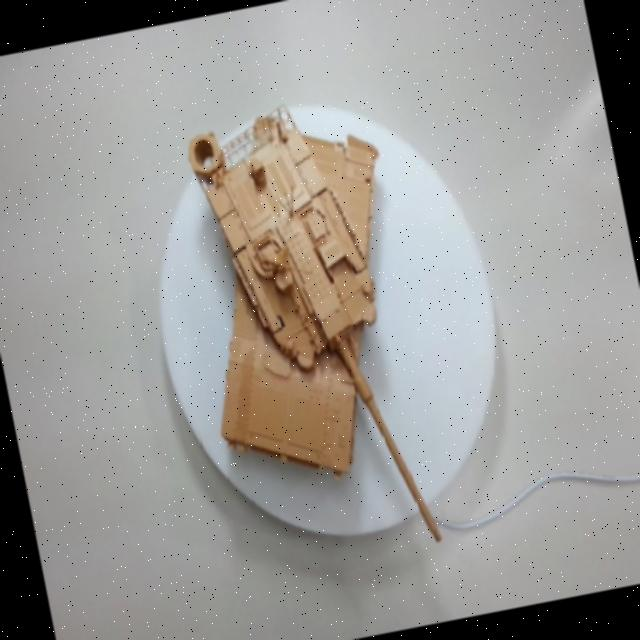korea tank: (117, 49, 510, 598)
